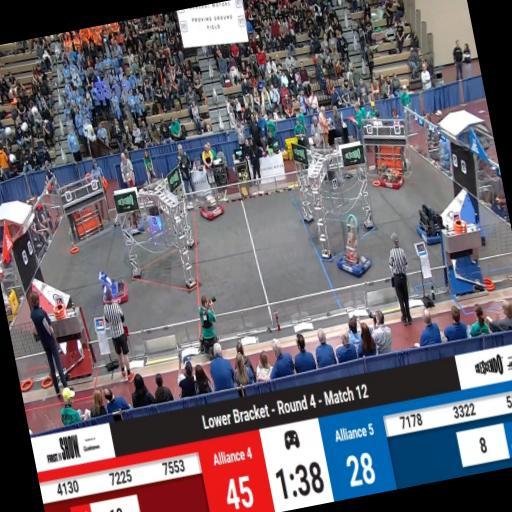robot: (412, 202, 448, 248), (98, 266, 131, 306), (336, 244, 372, 280), (372, 166, 405, 193), (199, 193, 226, 221)
